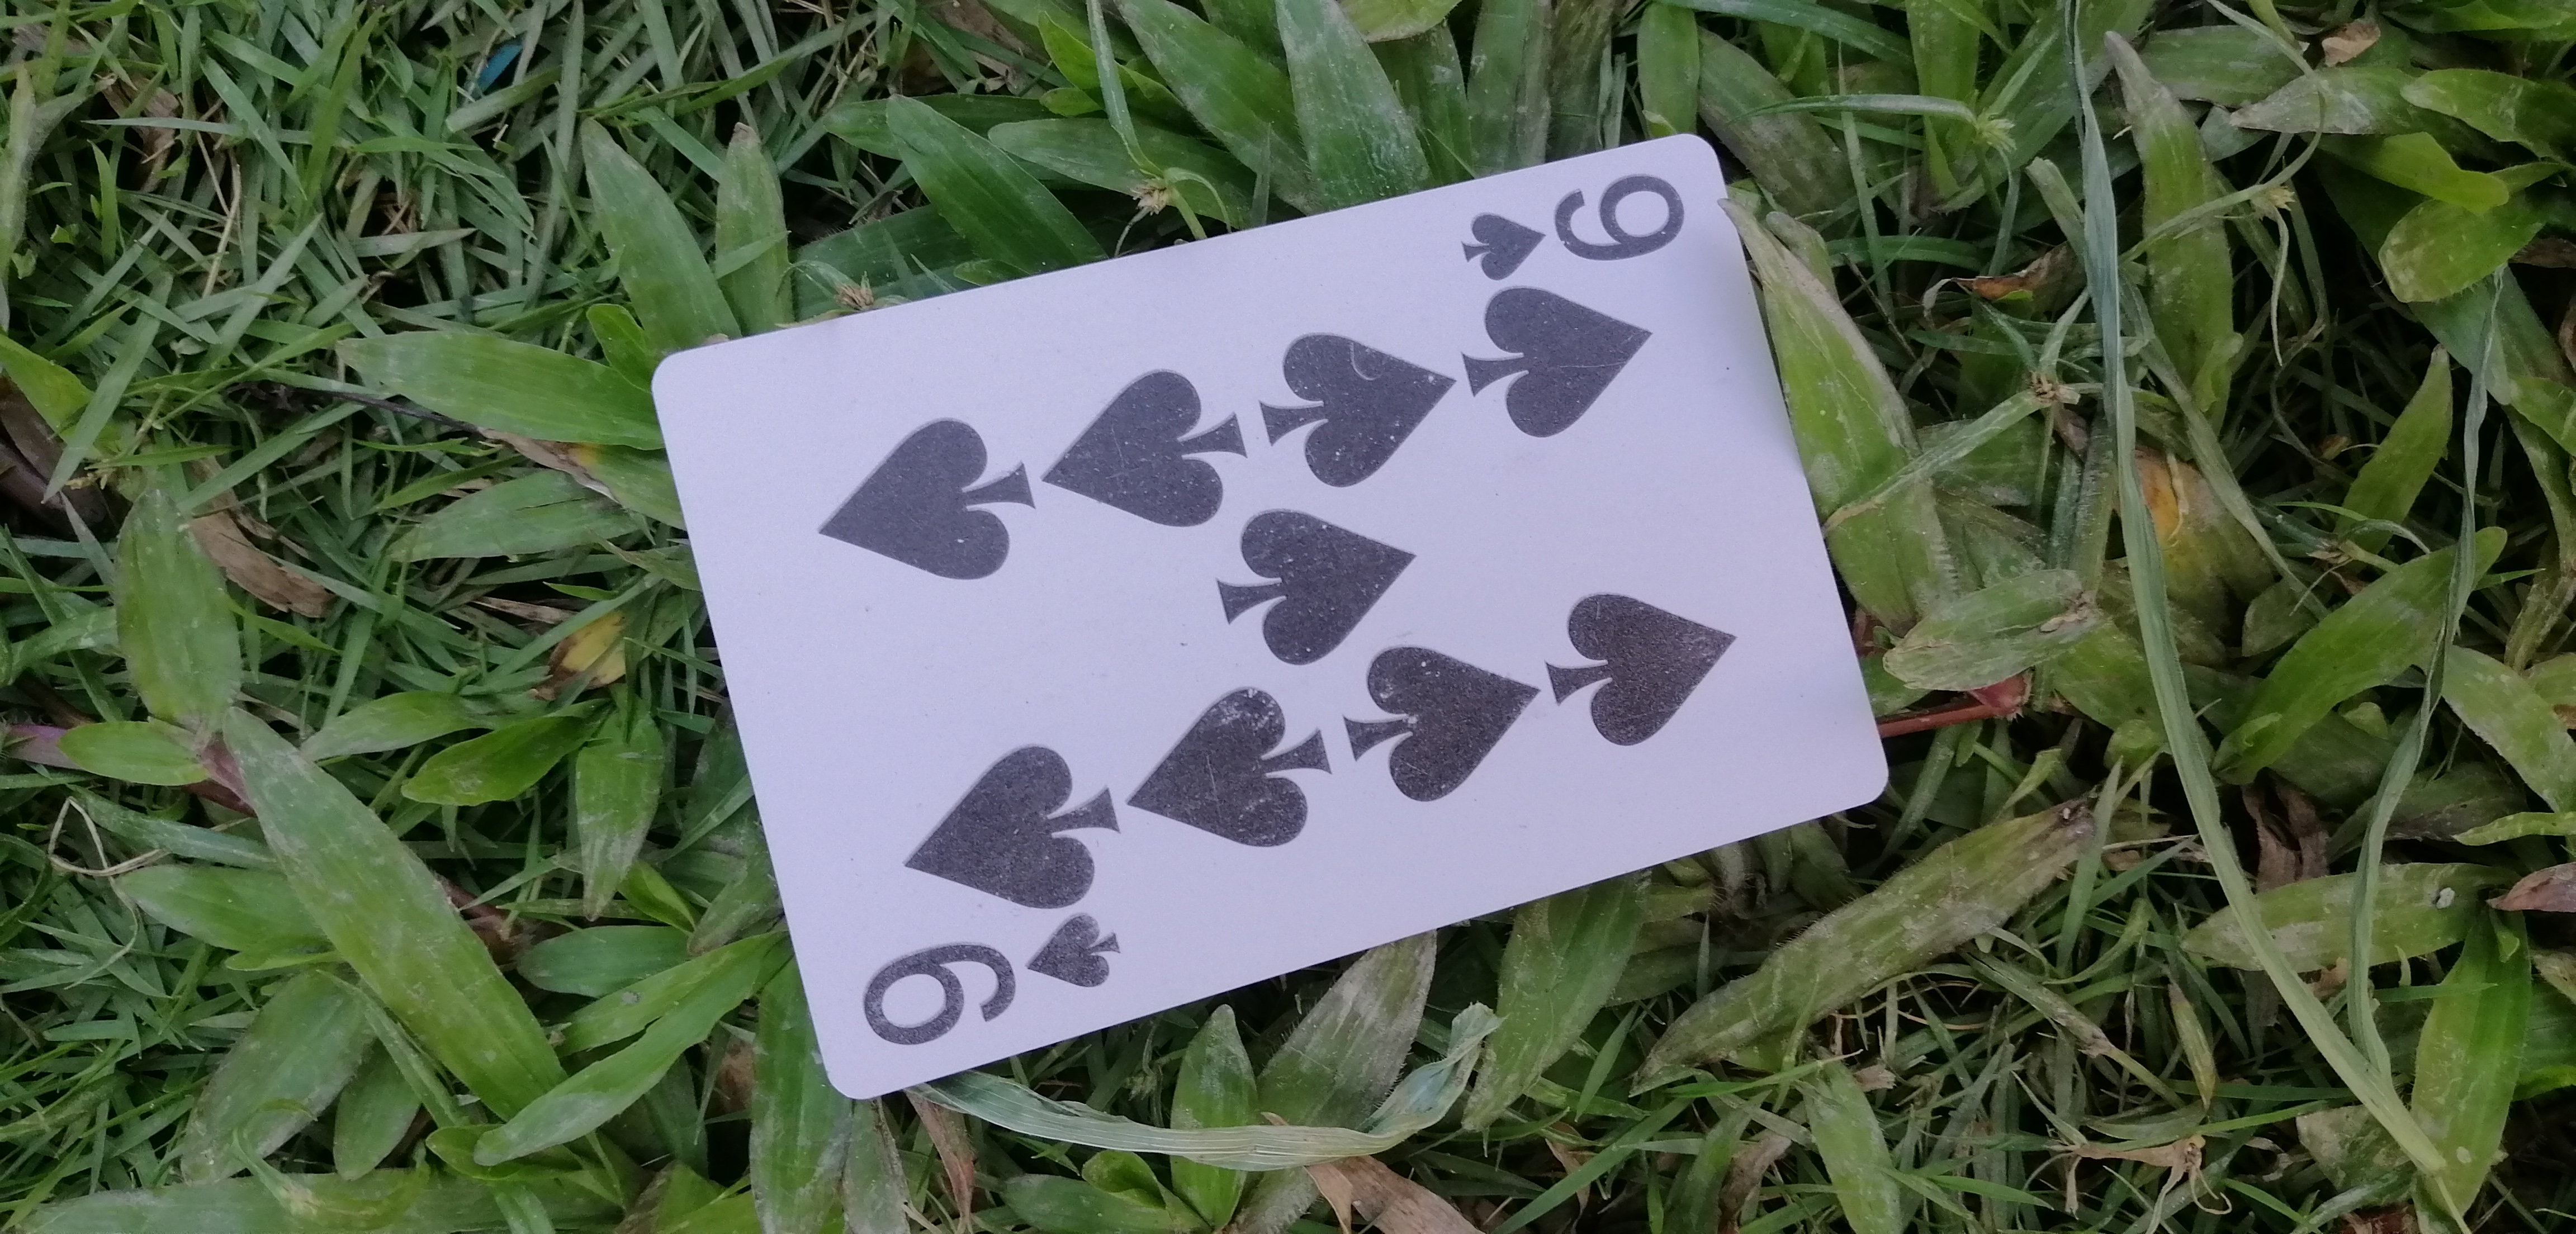nine: (486, 122, 1921, 1037)
